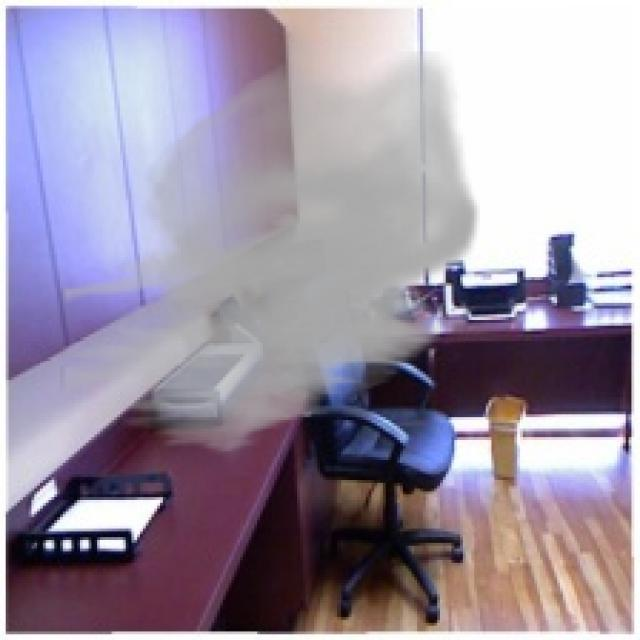Smoke: (60, 52, 480, 457)
